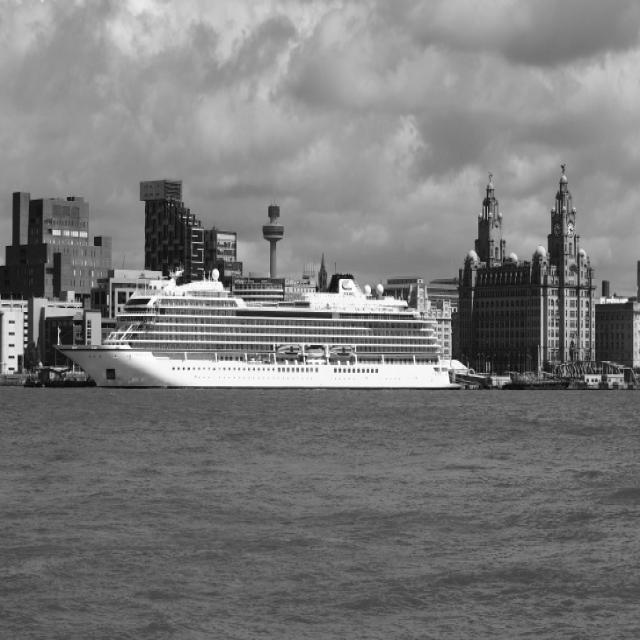cruises: (52, 267, 466, 400)
